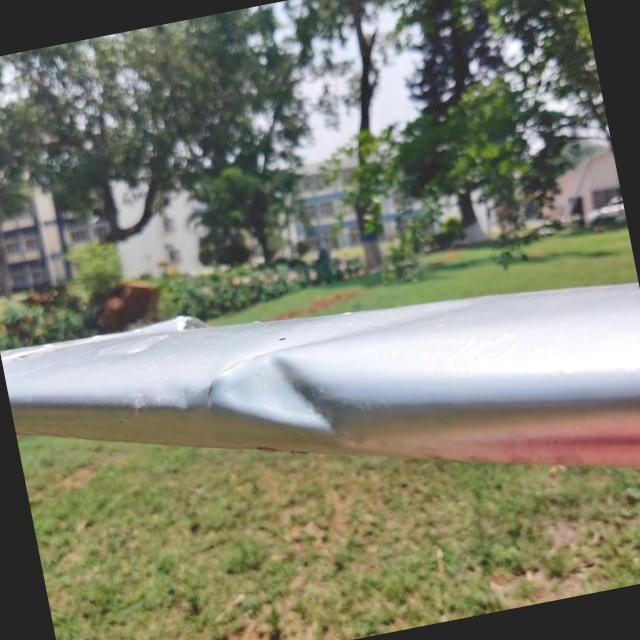crack: (195, 371, 228, 414)
dent: (210, 330, 366, 473)
